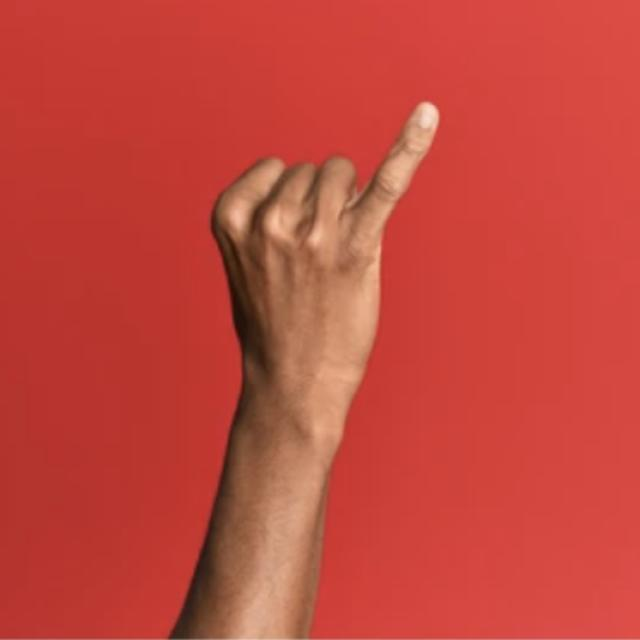pinky: (349, 86, 465, 242)
